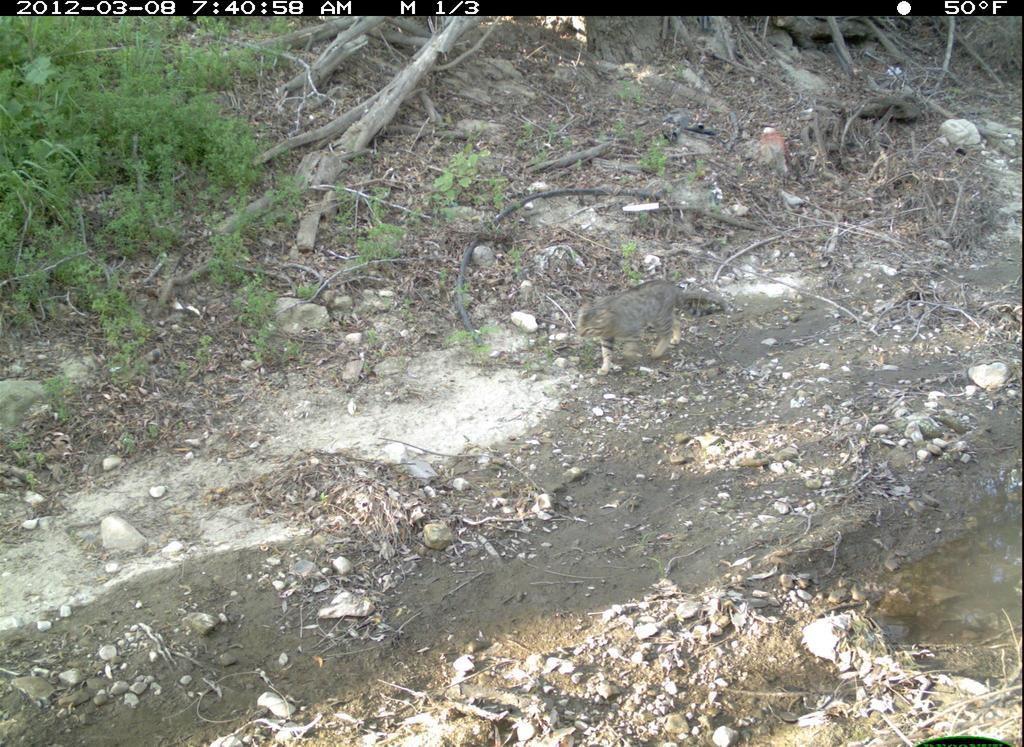cat: (576, 276, 726, 379)
